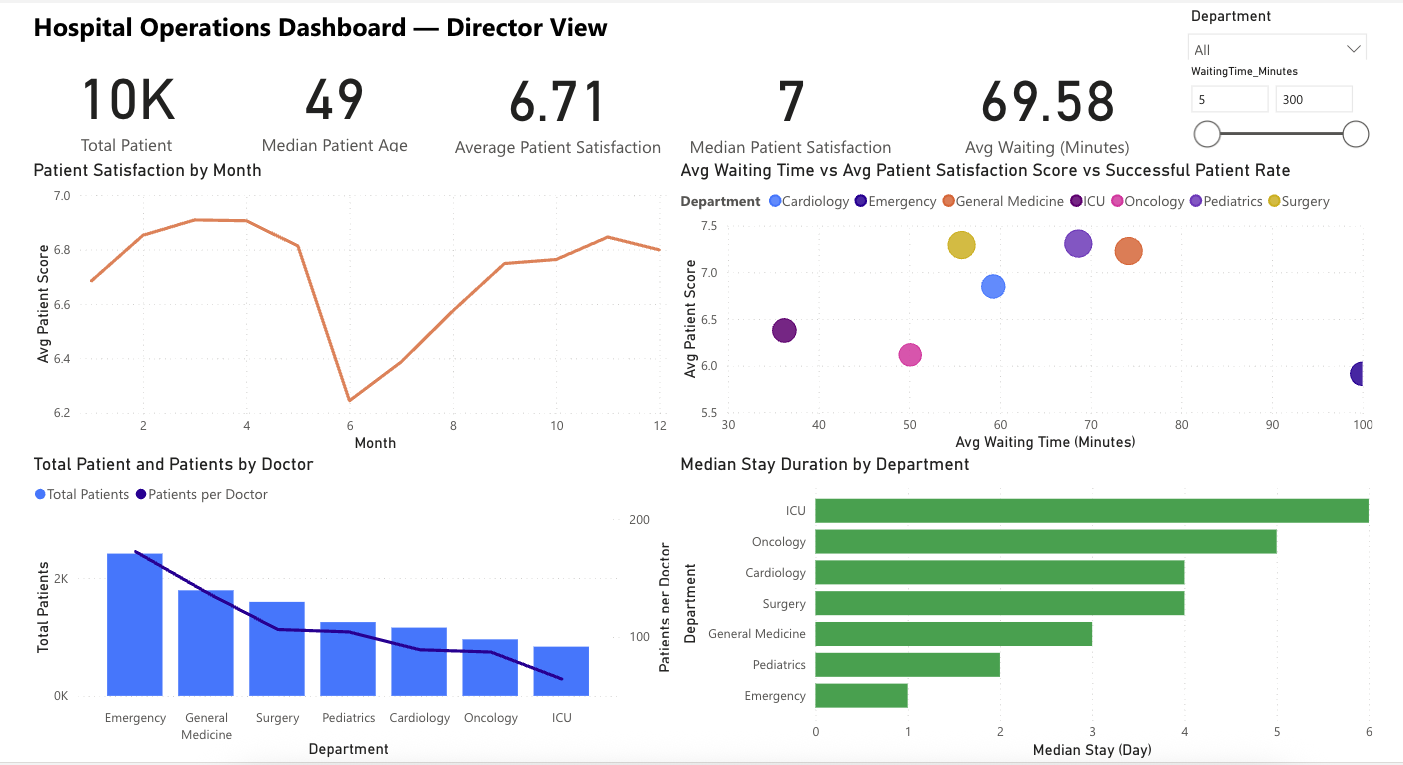

The page's visual inventory and layout, read from the dashboard file:
{"tool":"powerbi","page":{"name":"Director View Report","canvas":[1280,720],"ordinal":0},"visuals":[{"type":"card","fields":{"Values":["Medibank_Director_Dataset_2024to2025.Total Patient"]},"box":[0,42.8,185.7,103.1],"z":0},{"type":"card","fields":{"Values":["Median(Medibank_Director_Dataset_2024to2025.PatientAge)"]},"box":[189.6,43.6,201.5,102.3],"z":1000},{"type":"card","fields":{"Values":["Avg(Medibank_Director_Dataset_2024to2025.PatientSatisfaction)"]},"box":[390.9,42.7,222.5,108.2],"z":2000},{"type":"card","fields":{"Values":["Avg(Medibank_Director_Dataset_2024to2025.WaitingTime_Minutes)"]},"box":[831.2,42.7,269.7,108.2],"z":3000},{"type":"card","fields":{"Values":["Median(Medibank_Director_Dataset_2024to2025.PatientSatisfaction)"]},"box":[613.3,42.7,217.9,108.2],"z":4000},{"type":"lineClusteredColumnComboChart","title":"Total Patient and Patients by Doctor","fields":{"Category":["Medibank_Director_Dataset_2024to2025.Department"],"Y":["Medibank_Director_Dataset_2024to2025.Total Patient"],"Y2":["Medibank_Director_Dataset_2024to2025.Patients per Doctor"]},"box":[0,429.2,613.3,291.2],"z":5000},{"type":"scatterChart","title":"Avg Waiting Time vs  Avg Patient Satisfaction Score vs  Successful Patient Rate","fields":{"Series":["Medibank_Director_Dataset_2024to2025.Department"],"Size":["Medibank_Director_Dataset_2024to2025.Successful Patient %"],"X":["Avg(Medibank_Director_Dataset_2024to2025.WaitingTime_Minutes)"],"Y":["Avg(Medibank_Director_Dataset_2024to2025.PatientSatisfaction)"]},"box":[613.3,150.7,666.4,278.5],"z":6000},{"type":"slicer","fields":{"Values":["Medibank_Director_Dataset_2024to2025.Department"]},"box":[1089.5,0,190.5,54.1],"z":7000},{"type":"slicer","fields":{"Values":["Medibank_Director_Dataset_2024to2025.WaitingTime_Minutes"]},"box":[1089.5,54.1,190.5,86.1],"z":8000},{"type":"lineChart","title":"Patient Satisfaction by Month","fields":{"Category":["Medibank_Director_Dataset_2024to2025.Month"],"Y":["Avg(Medibank_Director_Dataset_2024to2025.PatientSatisfaction)"]},"box":[0,150.7,613.3,278.5],"z":9000},{"type":"clusteredBarChart","title":"Median Stay Duration by Department","fields":{"Category":["Medibank_Director_Dataset_2024to2025.Department"],"Y":["Median(Medibank_Director_Dataset_2024to2025.LengthOfStay_Days)"]},"box":[613.3,429.2,666.4,291.2],"z":10000},{"type":"textbox","box":[0,0,593.5,43.6],"z":10001}]}

Visuals, with their boxes on the page's 1280x720 design canvas (x1, y1, x2, y2). These are canvas units, not pixel positions in the 1403x765 screenshot, which may show the page scaled, cropped or inside an application window:
card - Medibank_Director_Dataset_2024to2025.Total Patient: x1=0, y1=43, x2=186, y2=146
card - Median(Medibank_Director_Dataset_2024to2025.PatientAge): x1=190, y1=44, x2=391, y2=146
card - Avg(Medibank_Director_Dataset_2024to2025.PatientSatisfaction): x1=391, y1=43, x2=613, y2=151
card - Avg(Medibank_Director_Dataset_2024to2025.WaitingTime_Minutes): x1=831, y1=43, x2=1101, y2=151
card - Median(Medibank_Director_Dataset_2024to2025.PatientSatisfaction): x1=613, y1=43, x2=831, y2=151
"Total Patient and Patients by Doctor" lineClusteredColumnComboChart: x1=0, y1=429, x2=613, y2=720
"Avg Waiting Time vs  Avg Patient Satisfaction Score vs  Successful Patient Rate" scatterChart: x1=613, y1=151, x2=1280, y2=429
slicer - Medibank_Director_Dataset_2024to2025.Department: x1=1090, y1=0, x2=1280, y2=54
slicer - Medibank_Director_Dataset_2024to2025.WaitingTime_Minutes: x1=1090, y1=54, x2=1280, y2=140
"Patient Satisfaction by Month" lineChart: x1=0, y1=151, x2=613, y2=429
"Median Stay Duration by Department" clusteredBarChart: x1=613, y1=429, x2=1280, y2=720
textbox: x1=0, y1=0, x2=594, y2=44
